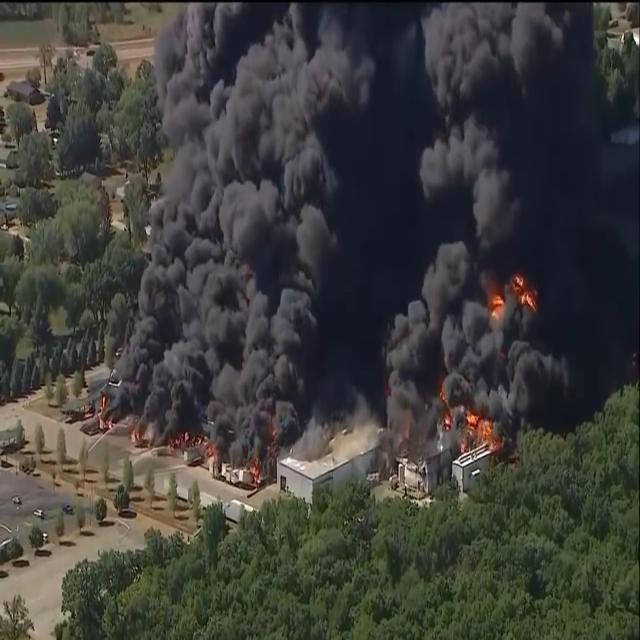Fire: (438, 388, 507, 451), (486, 268, 538, 320), (174, 424, 216, 456), (248, 453, 262, 486), (100, 395, 110, 424)
Smoke: (107, 0, 392, 455), (384, 0, 640, 452)
